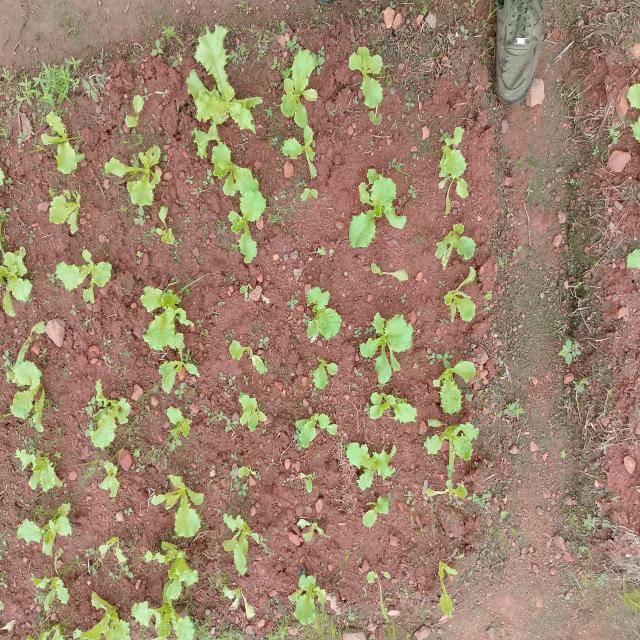Lettuce: (186, 20, 264, 159), (4, 323, 63, 437), (342, 162, 412, 252), (130, 272, 203, 351), (354, 304, 419, 386), (208, 188, 276, 266), (101, 140, 177, 209), (433, 122, 482, 214), (198, 144, 260, 216), (14, 491, 79, 559), (146, 470, 209, 537), (81, 382, 134, 458), (52, 248, 119, 308), (342, 40, 396, 113), (278, 48, 325, 130), (425, 350, 481, 416), (218, 510, 272, 576), (8, 443, 62, 509), (344, 442, 405, 500), (34, 113, 90, 176), (427, 418, 481, 482), (291, 284, 347, 345), (140, 546, 200, 602), (342, 439, 402, 493), (70, 589, 133, 640), (284, 567, 334, 628), (435, 264, 485, 322), (133, 596, 198, 640), (358, 382, 421, 427), (224, 325, 276, 377), (429, 220, 482, 271), (425, 551, 463, 622), (0, 243, 36, 317), (297, 403, 350, 452), (277, 130, 323, 186), (45, 183, 90, 240), (228, 385, 270, 444), (158, 349, 212, 392), (156, 406, 204, 453), (416, 478, 476, 514), (214, 584, 262, 629), (349, 565, 402, 605), (30, 567, 68, 615), (24, 607, 77, 640), (150, 207, 187, 250), (303, 352, 342, 391), (364, 498, 401, 536), (291, 515, 335, 541), (97, 458, 124, 500), (296, 465, 323, 498)
